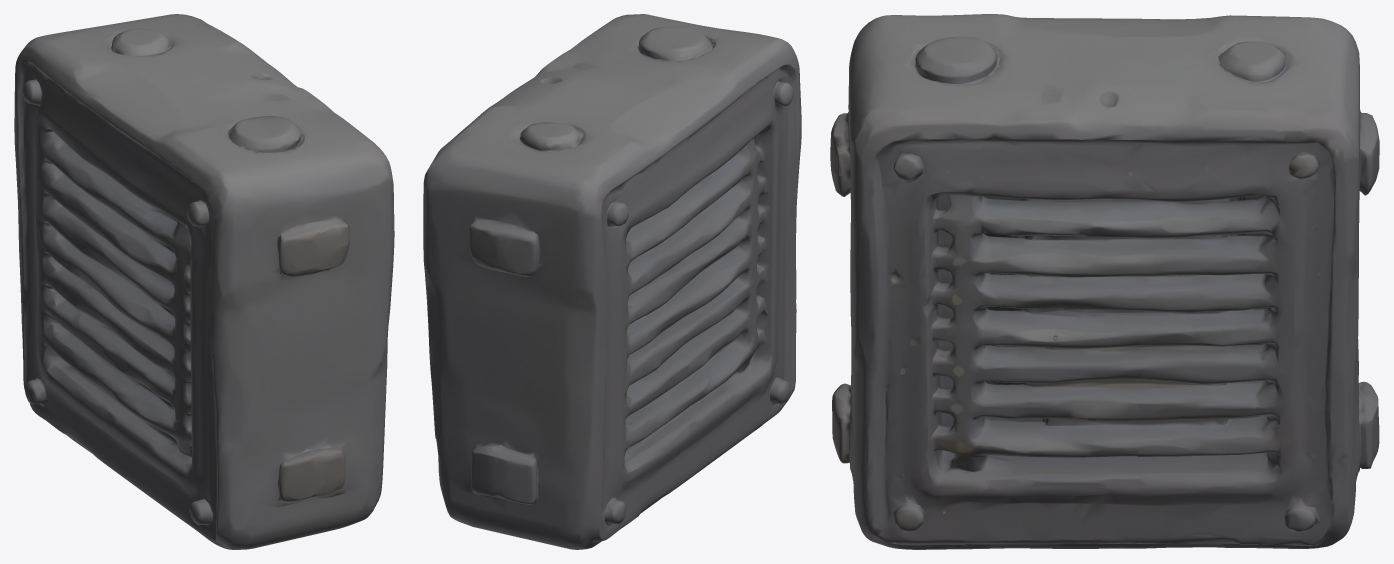
File: decor_vent.glb
3 views of the same model, side by side, from view 1: azimuth 30°, elevation 25°; view 2: azimuth 150°, elevation 25°; view 3: azimuth 270°, elevation 25° (orthographic). The views are drawn at different scales.
Visible parts, largest first — view 1: tripo_node_a0d2ef07-2a2f-4683-85f5-3241d5728e79; view 2: tripo_node_a0d2ef07-2a2f-4683-85f5-3241d5728e79; view 3: tripo_node_a0d2ef07-2a2f-4683-85f5-3241d5728e79.
Part boxes in pixels (x1,y1,x2,y2): tripo_node_a0d2ef07-2a2f-4683-85f5-3241d5728e79: [14, 14, 394, 549]; tripo_node_a0d2ef07-2a2f-4683-85f5-3241d5728e79: [423, 14, 801, 549]; tripo_node_a0d2ef07-2a2f-4683-85f5-3241d5728e79: [830, 14, 1379, 549].
Size of the model in its own units: 0.4743 by 0.9151 by 0.9801.
1 material, 1 textured.
